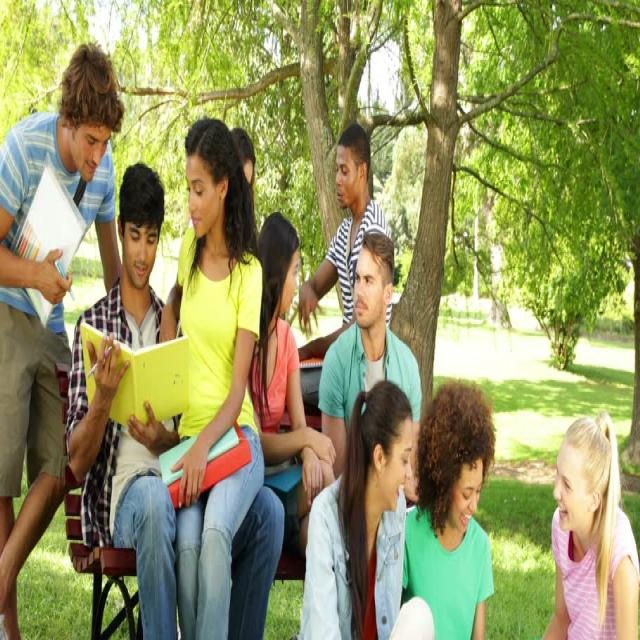body: (60, 157, 289, 639), (0, 34, 132, 638), (152, 114, 268, 638), (244, 208, 337, 557), (296, 376, 414, 640), (316, 228, 424, 504), (530, 402, 640, 638), (402, 376, 497, 640), (296, 121, 396, 363), (222, 115, 261, 226)
